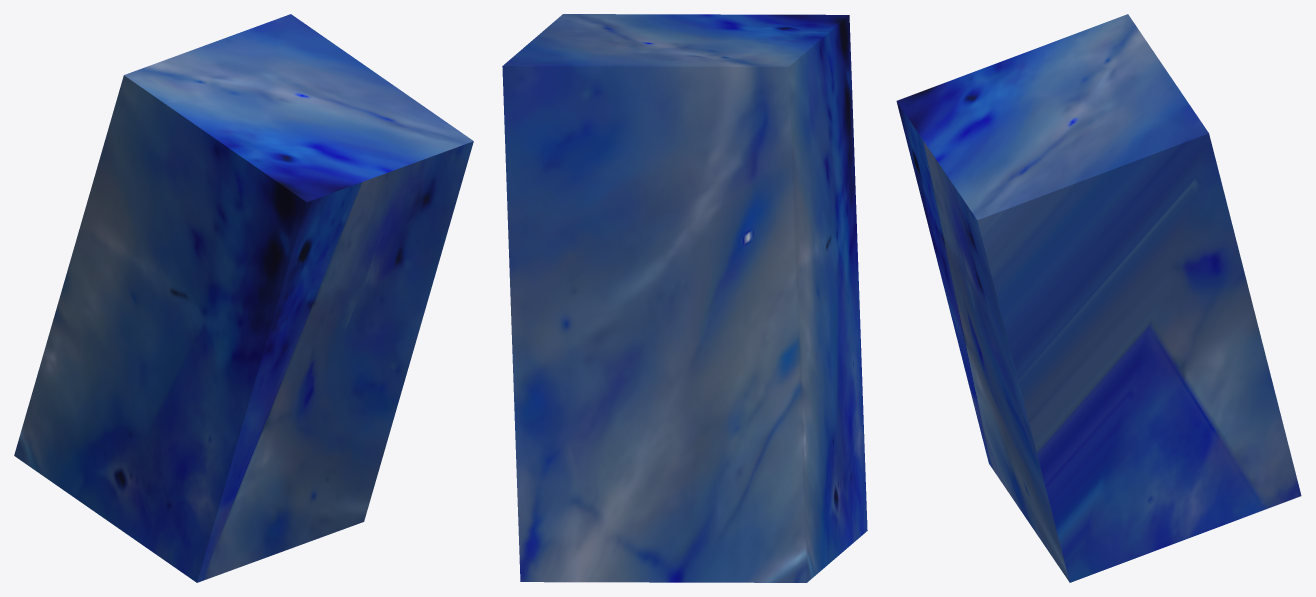
The model's file is BlueBlocks_24.gltf.
3 views of the same model, side by side, from view 1: azimuth 30°, elevation 25°; view 2: azimuth 150°, elevation 25°; view 3: azimuth 270°, elevation 25° (orthographic). The views are drawn at different scales.
Parts seen in each view (by area): view 1: BlueBlocks_24; view 2: BlueBlocks_24; view 3: BlueBlocks_24.
Boxes of the visible parts, x1=… form: BlueBlocks_24: x1=14, y1=14, x2=473, y2=582; BlueBlocks_24: x1=502, y1=14, x2=867, y2=582; BlueBlocks_24: x1=896, y1=14, x2=1301, y2=582.
Size of the model in its own units: 5.14 by 6.97 by 5.47.
Materials: 1 (1 with a texture image).
